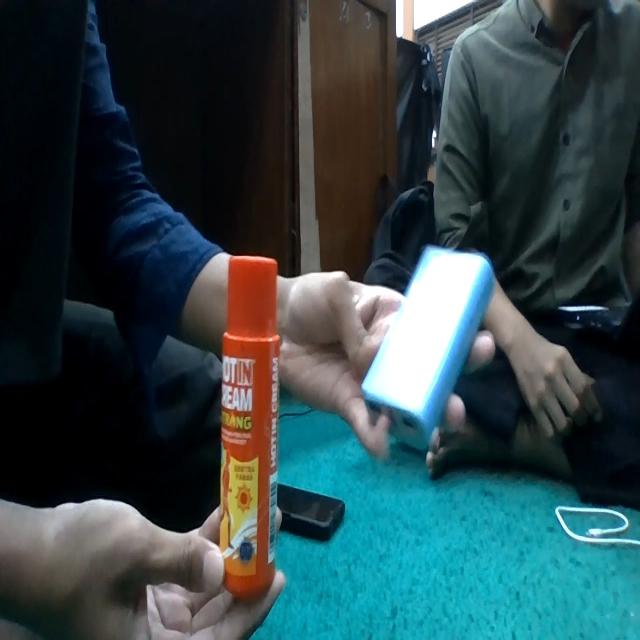Boncabe: (219, 257, 280, 599)
Powerbank: (362, 246, 495, 450)
